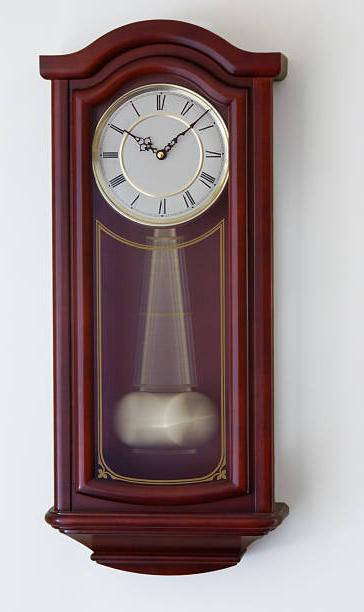clock: (91, 84, 229, 224)
